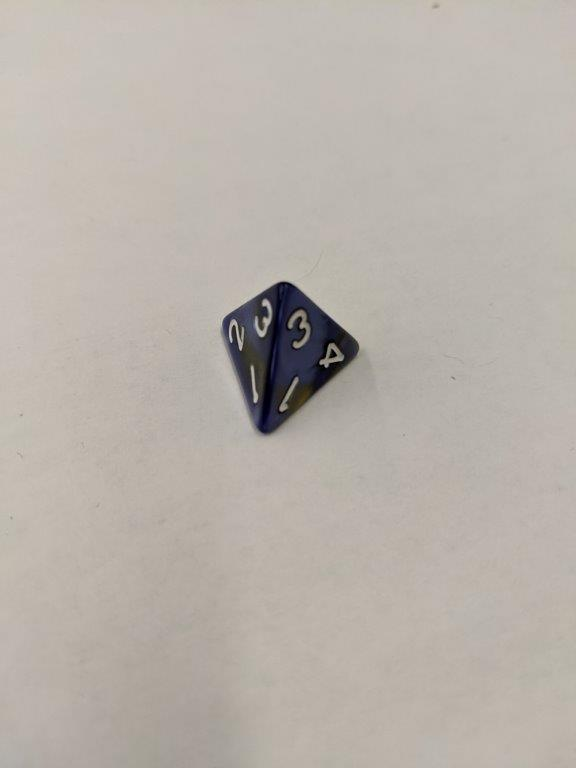d4-3: (219, 278, 362, 438)
